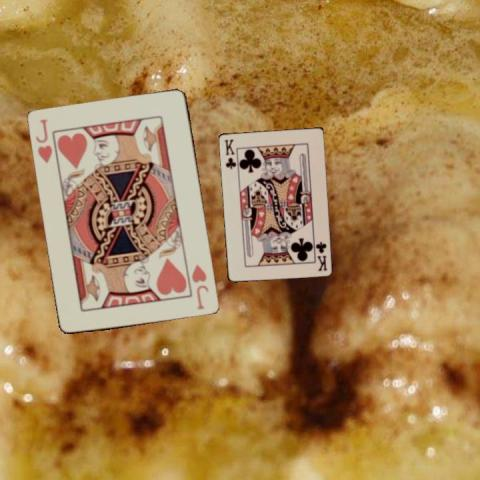Jh: (189, 262, 210, 311), (33, 116, 54, 165)
Kc: (221, 136, 237, 170), (313, 239, 328, 272)
